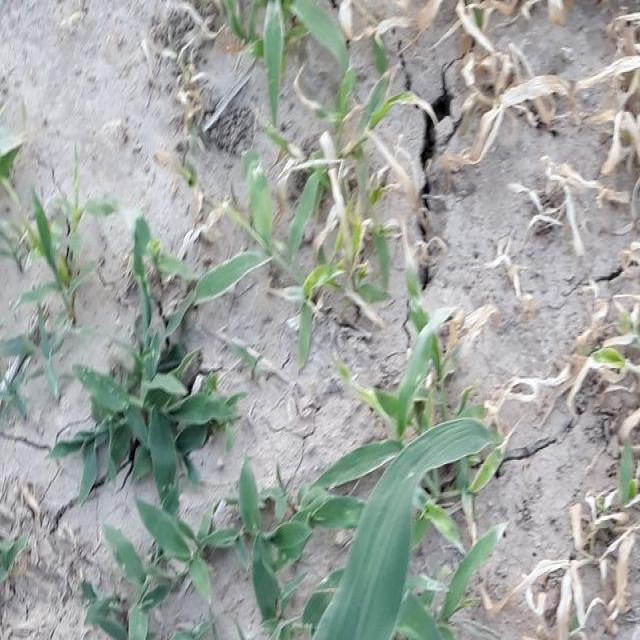weed: (236, 127, 467, 379), (71, 287, 225, 521)
